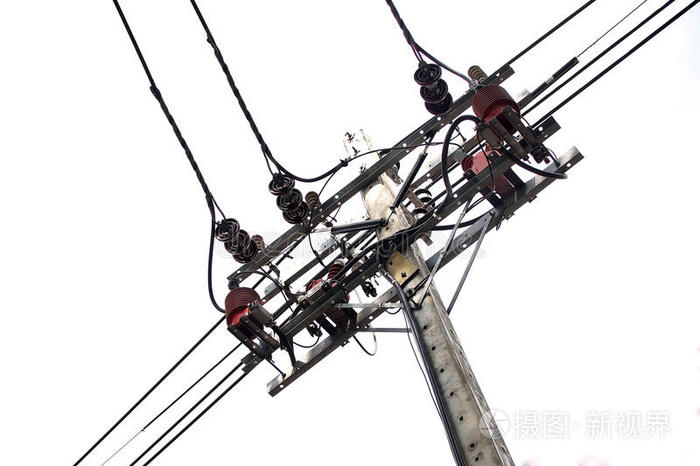insulator: (212, 216, 259, 265), (414, 62, 456, 111), (269, 173, 308, 224)
